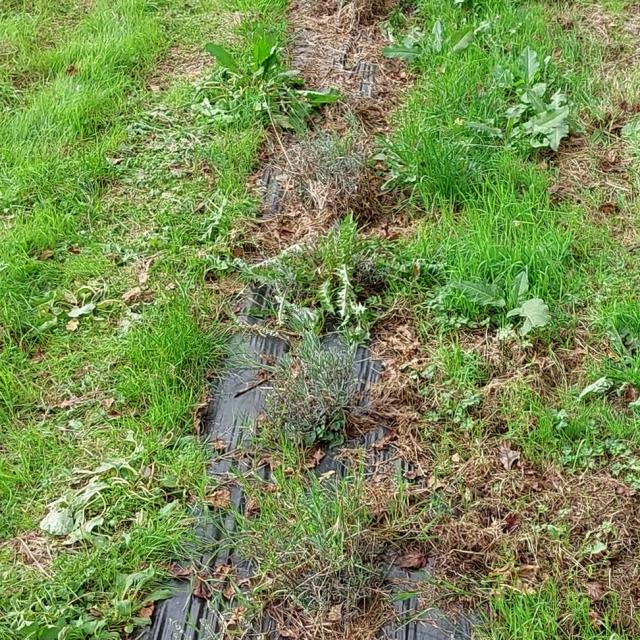organic waste: (188, 19, 328, 134), (439, 258, 572, 358), (19, 468, 146, 561), (376, 9, 494, 90), (452, 105, 556, 176), (518, 88, 597, 165), (47, 279, 132, 342), (488, 53, 558, 108)
